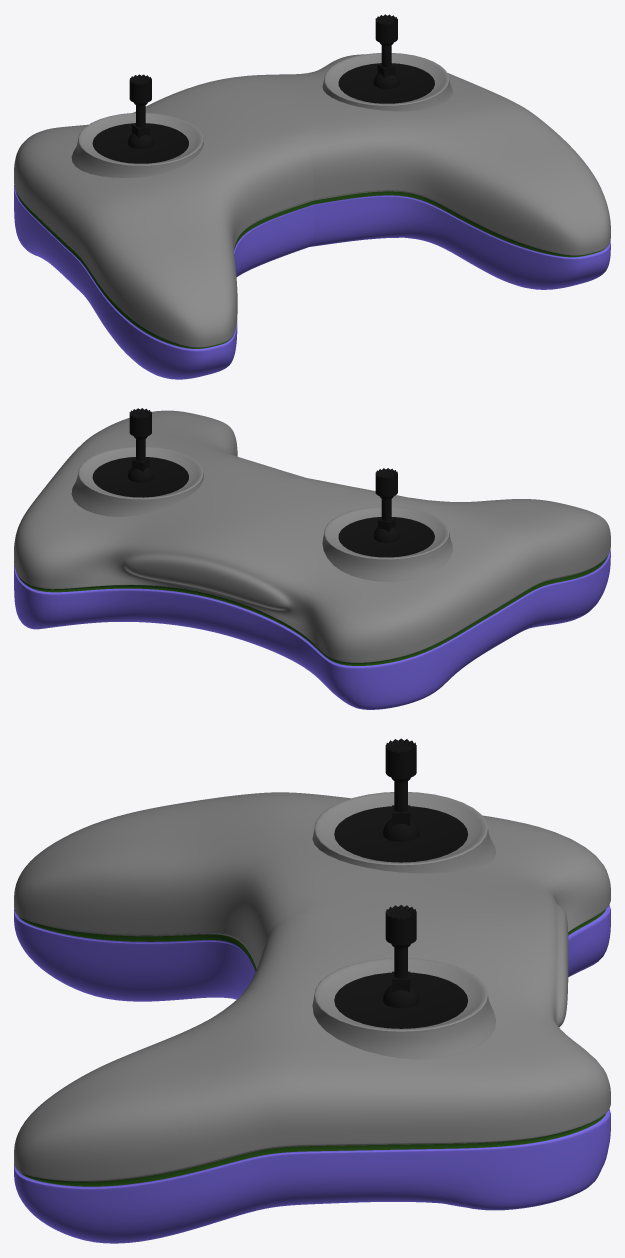
Rendered from GeneralDroneController.fbx.
The picture shows the model from 3 angles, top to bottom: view 1: azimuth 30°, elevation 25°; view 2: azimuth 150°, elevation 25°; view 3: azimuth 270°, elevation 25°; orthographic projection. The views are drawn at different scales.
Parts seen in each view (by area): view 1: ControllerBase, PaddingController-L, PaddingController-R, JoystickController-R, JoystickController-L; view 2: ControllerBase, PaddingController-L, PaddingController-R, JoystickController-L, JoystickController-R; view 3: ControllerBase, PaddingController-R, PaddingController-L, JoystickController-R, JoystickController-L.
Boxes of the visible parts, <box> form: ControllerBase: <box>14,54,610,379</box>; PaddingController-L: <box>71,113,203,177</box>; PaddingController-R: <box>322,53,452,111</box>; JoystickController-R: <box>373,14,399,88</box>; JoystickController-L: <box>127,74,153,148</box>; ControllerBase: <box>14,410,610,709</box>; PaddingController-L: <box>322,506,452,581</box>; PaddingController-R: <box>71,446,203,516</box>; JoystickController-L: <box>373,468,399,542</box>; JoystickController-R: <box>127,408,153,482</box>; ControllerBase: <box>14,792,610,1243</box>; PaddingController-R: <box>312,958,495,1059</box>; PaddingController-L: <box>312,792,496,873</box>; JoystickController-R: <box>383,905,419,1008</box>; JoystickController-L: <box>383,738,419,841</box>.
Size of the model in its own units: 621 by 251 by 492.
